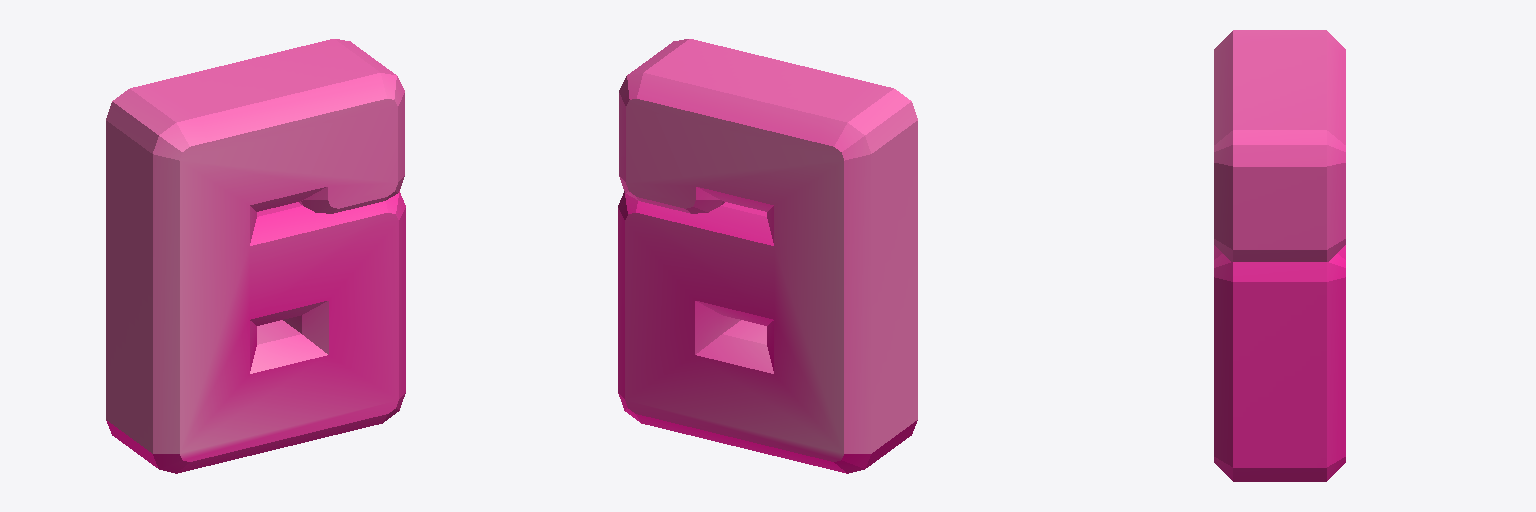
The picture shows the model from 3 angles: view 1: azimuth 30°, elevation 25°; view 2: azimuth 150°, elevation 25°; view 3: azimuth 270°, elevation 25°; orthographic projection.
Visible parts, largest first — view 1: テキスト; view 2: テキスト; view 3: テキスト.
Boxes of the visible parts, x1,y1,x2,y2 form: テキスト: [106, 39, 405, 473]; テキスト: [618, 39, 917, 473]; テキスト: [1214, 30, 1345, 481].
Bounding box in the file's own units: 1.63 × 2.16 × 0.74.
Materials: 1 (1 with a texture image).